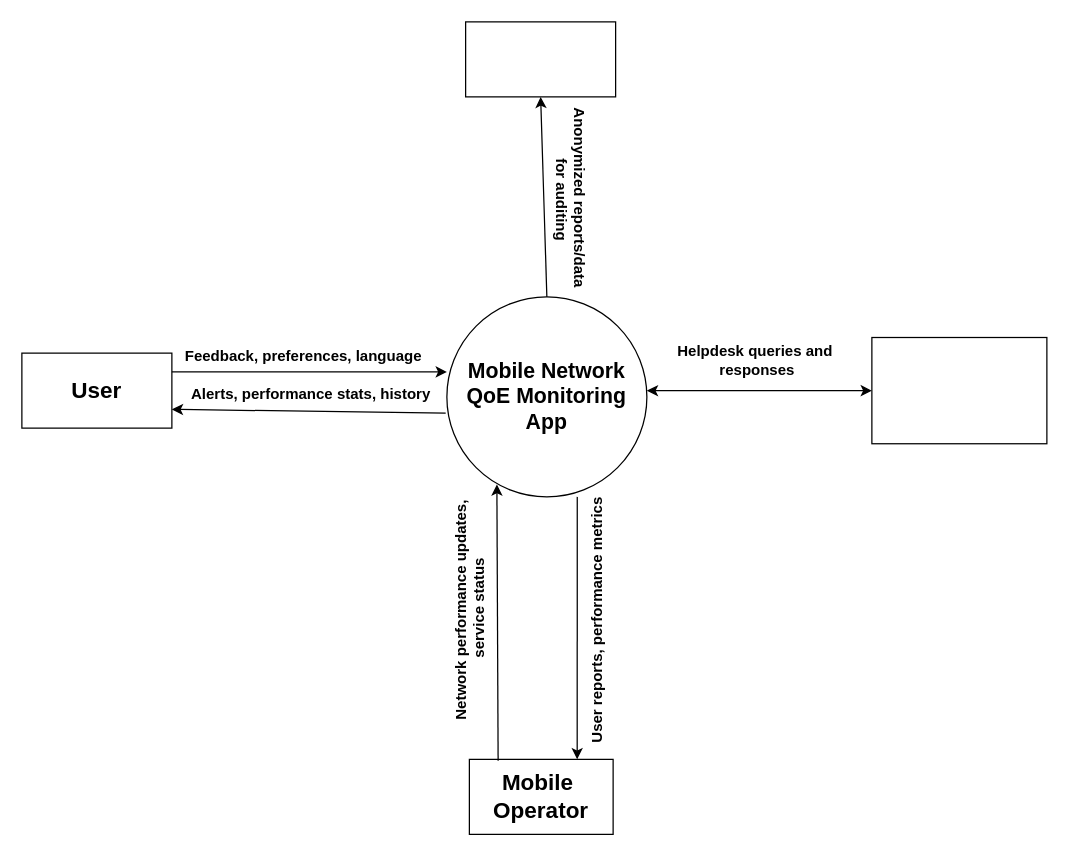
The diagram is 1069 pixels wide and 856 high, and some of its shapes have lost their labels. The centre of each missing label's shape, as x and y in pixels:
"Relgulatory Authorities" belongs at pixel 540 59.
"System Support (MTN ZIGGI)" belongs at pixel 959 390.
